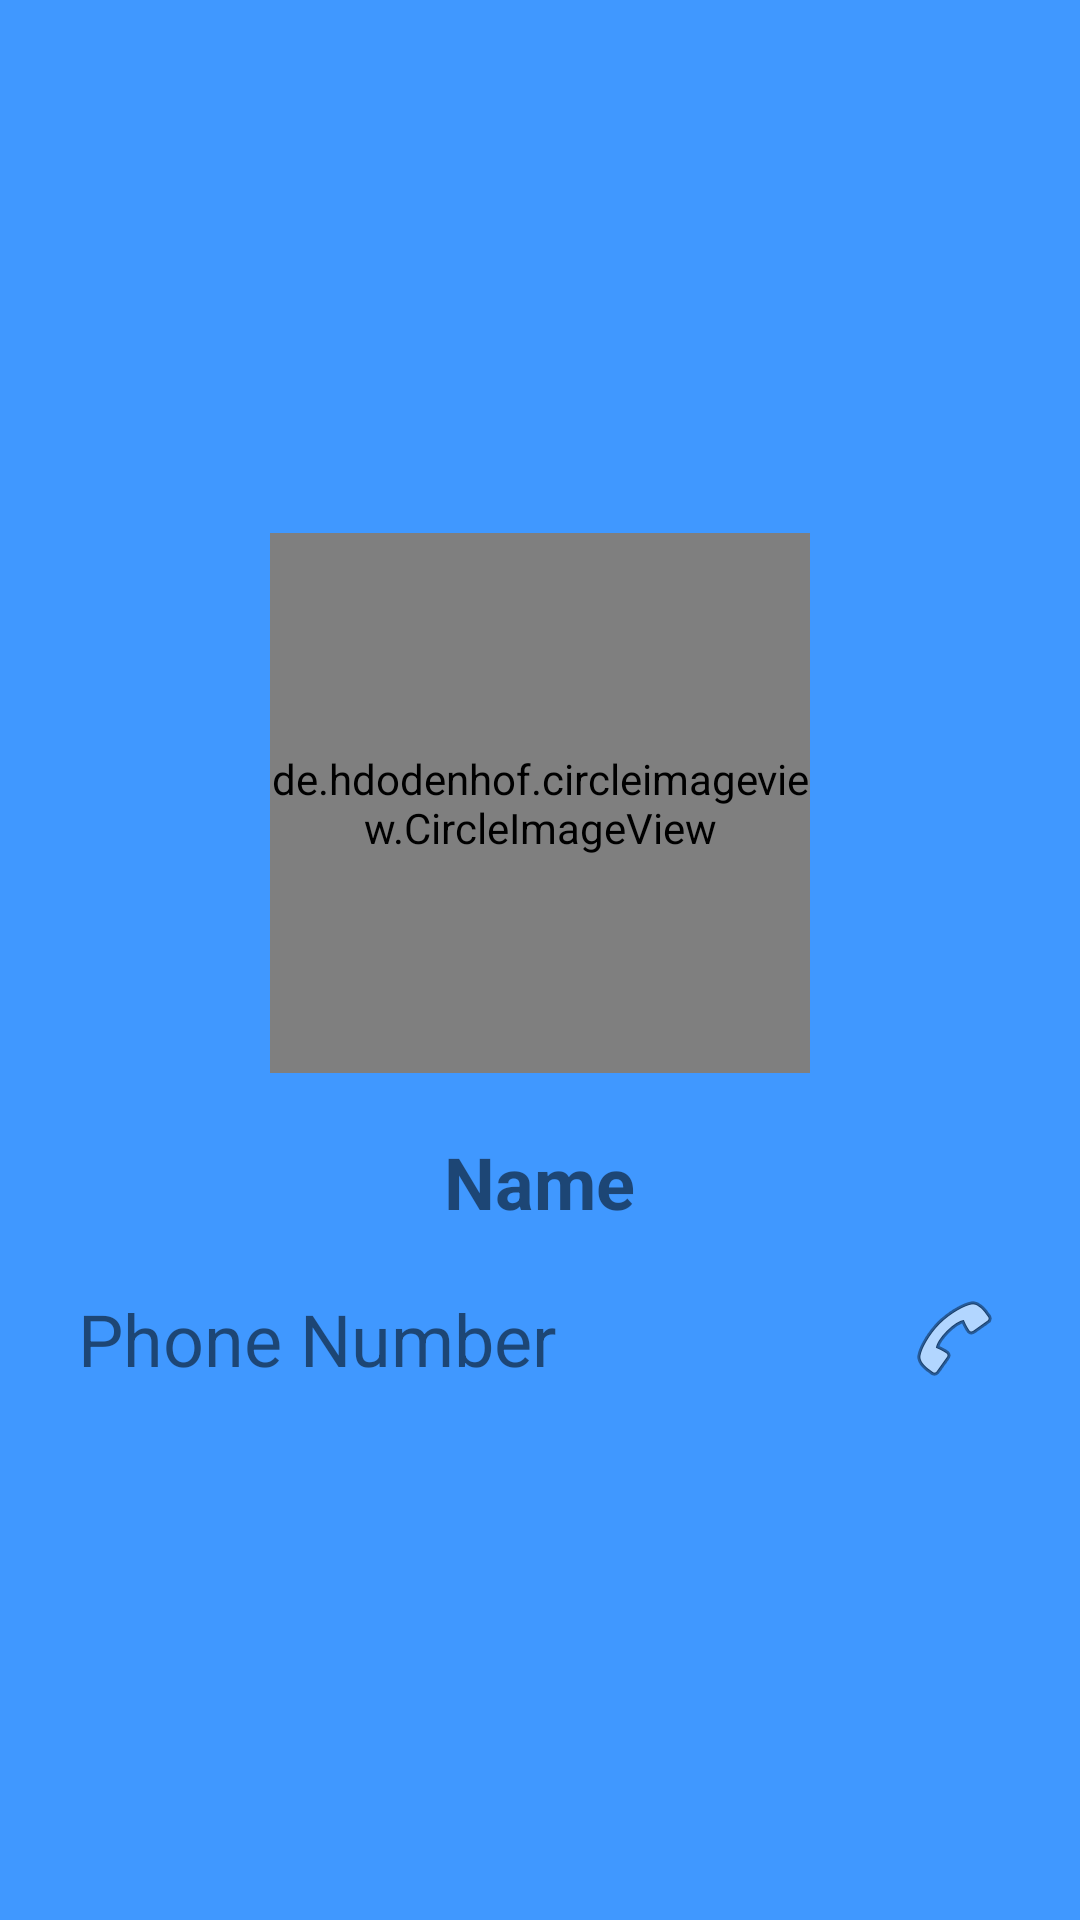

Named icons in this screenshot (1080px×1920px) and their bounding boxes, (x1, y1, x2, y2):
Call: (917, 1301, 992, 1376)
